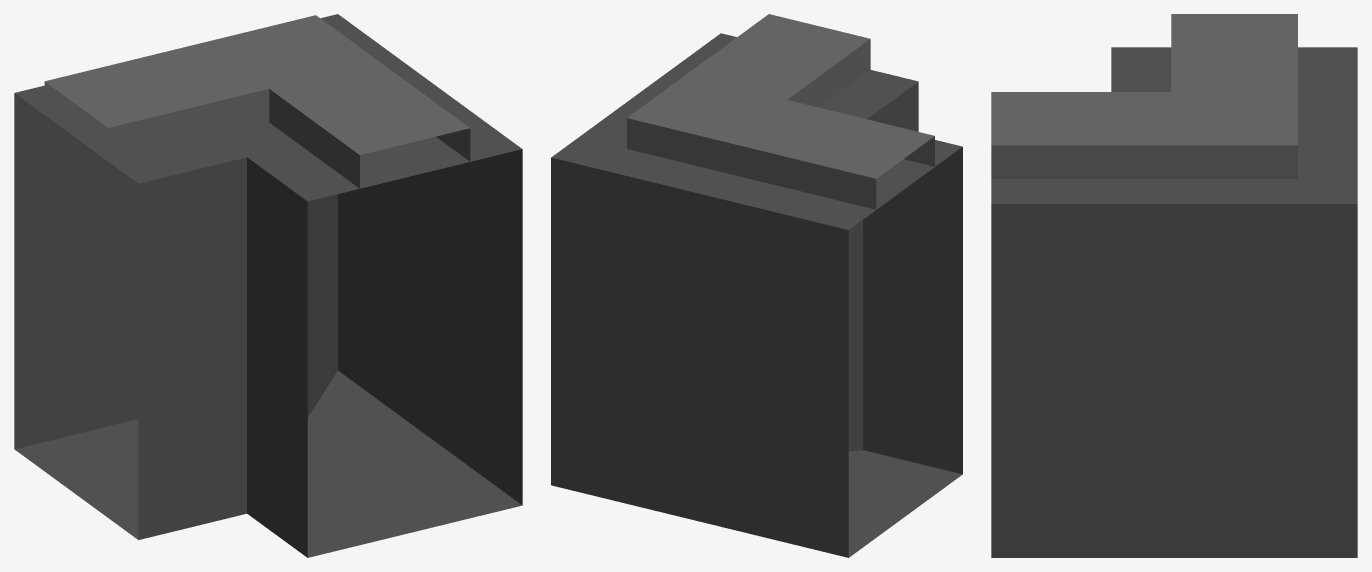
The model's file is ConcreteBarrier_2.fbx.
The picture shows the model from 3 angles, left to right: view 1: azimuth 30°, elevation 25°; view 2: azimuth 150°, elevation 25°; view 3: azimuth 270°, elevation 25°; orthographic projection. The views are drawn at different scales.
Parts seen in each view (by area): view 1: ConcreteBarrier_2; view 2: ConcreteBarrier_2; view 3: ConcreteBarrier_2.
Part boxes in pixels (box(x1,y1,x2,y2)): ConcreteBarrier_2: box(14, 14, 522, 557); ConcreteBarrier_2: box(551, 14, 962, 557); ConcreteBarrier_2: box(991, 14, 1357, 557).
Size of the model in its own units: 120 by 138 by 118.
